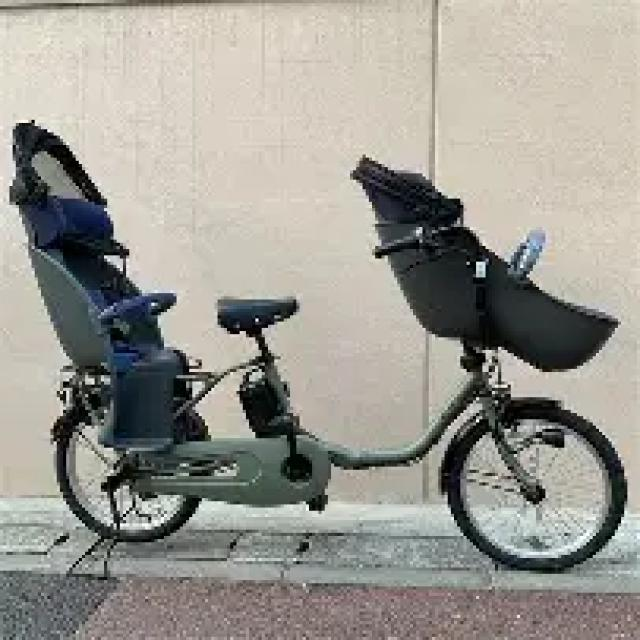battery: (232, 368, 293, 442)
childseat: (346, 148, 626, 372), (4, 118, 192, 444)
